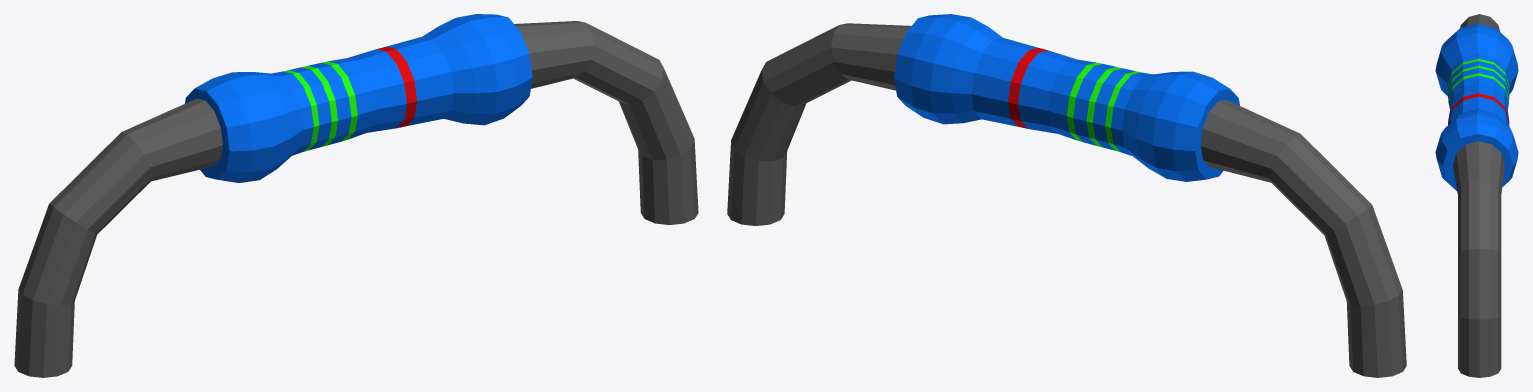
Rendered from Resistor2.fbx.
The picture shows the model from 3 angles, left to right: view 1: azimuth 30°, elevation 25°; view 2: azimuth 150°, elevation 25°; view 3: azimuth 270°, elevation 25°; orthographic projection. The views are drawn at different scales.
Parts seen in each view (by area): view 1: Resistor; view 2: Resistor; view 3: Resistor.
Part boxes in pixels (bbox=[...]): Resistor: bbox=[14, 14, 698, 377]; Resistor: bbox=[727, 14, 1406, 377]; Resistor: bbox=[1435, 14, 1518, 377].
Bounding box in the file's own units: 967 × 331 × 138.
